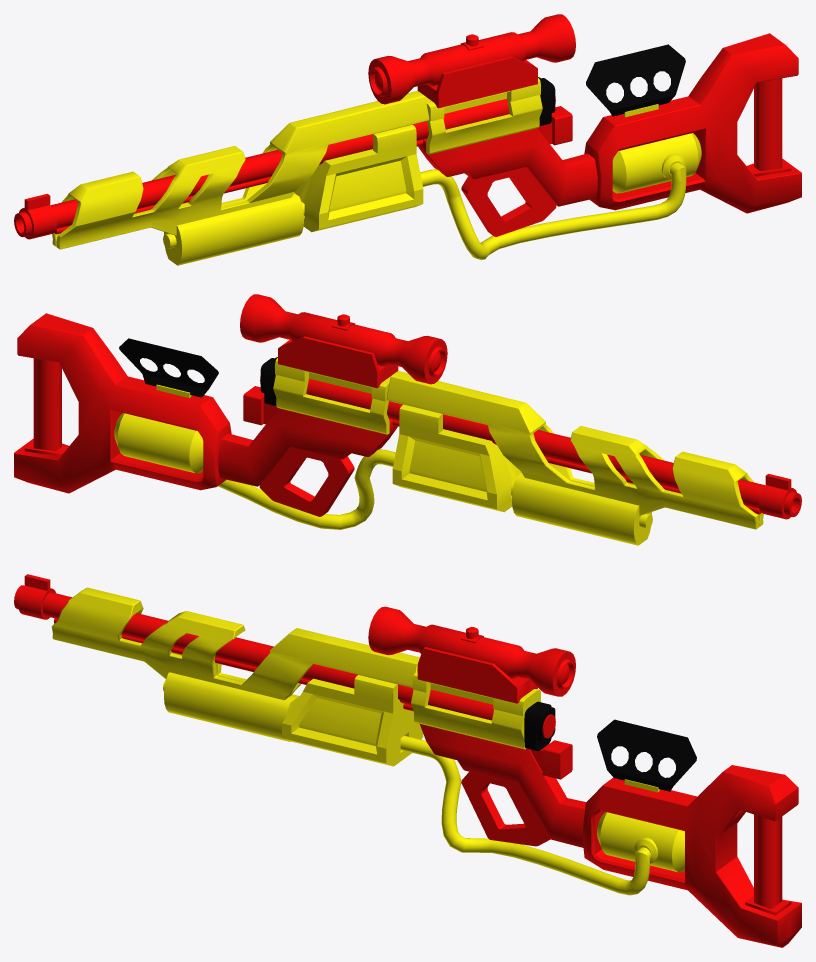
Rendered from Leo_tranquilizerRifle_low.fbx.
3 views of the same model, one above another, from view 1: azimuth 30°, elevation 25°; view 2: azimuth 150°, elevation 25°; view 3: azimuth 330°, elevation 25° (orthographic).
Parts seen in each view (by area): view 1: Stock_low, BarrelGuard_low, Pumpbox_low, Scope_low, Handle_low, Barrel_low, tube_low, pump_low, ChamberClamp_low, FaceGuard_low, ScopeRest_low, guard_low (+2 smaller); view 2: Stock_low, BarrelGuard_low, Pumpbox_low, Scope_low, Handle_low, Barrel_low, pump_low, ChamberClamp_low, AirTank_low, ScopeRest_low, tube_low, guard_low (+2 smaller); view 3: Stock_low, BarrelGuard_low, Pumpbox_low, Scope_low, Barrel_low, Handle_low, ChamberClamp_low, tube_low, pump_low, FaceGuard_low, ScopeRest_low, guard_low (+2 smaller).
Boxes of the visible parts, x1,y1,x2,y2 form: Stock_low: [584, 33, 801, 213]; BarrelGuard_low: [52, 91, 429, 249]; Pumpbox_low: [294, 124, 423, 232]; Scope_low: [368, 14, 575, 104]; Handle_low: [418, 128, 597, 206]; Barrel_low: [14, 96, 555, 239]; tube_low: [163, 163, 686, 260]; pump_low: [164, 193, 303, 265]; ChamberClamp_low: [417, 77, 555, 154]; FaceGuard_low: [586, 44, 685, 117]; ScopeRest_low: [417, 56, 537, 108]; guard_low: [461, 167, 556, 236]; Stock_low: [14, 313, 231, 493]; BarrelGuard_low: [386, 371, 763, 529]; Pumpbox_low: [392, 404, 521, 512]; Scope_low: [240, 294, 447, 384]; Handle_low: [218, 408, 397, 486]; Barrel_low: [260, 376, 801, 519]; pump_low: [512, 473, 651, 545]; ChamberClamp_low: [260, 357, 398, 434]; AirTank_low: [114, 413, 203, 473]; ScopeRest_low: [278, 336, 398, 388]; tube_low: [218, 449, 652, 529]; guard_low: [259, 447, 354, 516]; Stock_low: [583, 765, 801, 947]; BarrelGuard_low: [51, 587, 419, 700]; Pumpbox_low: [282, 675, 423, 766]; Scope_low: [368, 606, 575, 696]; Barrel_low: [14, 574, 555, 738]; Handle_low: [420, 724, 586, 847]; ChamberClamp_low: [411, 671, 555, 751]; tube_low: [163, 680, 650, 895]; pump_low: [164, 672, 299, 741]; FaceGuard_low: [597, 719, 696, 792]; ScopeRest_low: [417, 647, 537, 703]; guard_low: [461, 772, 549, 846].
Size of the model in its own units: 941 by 282 by 85.89.
